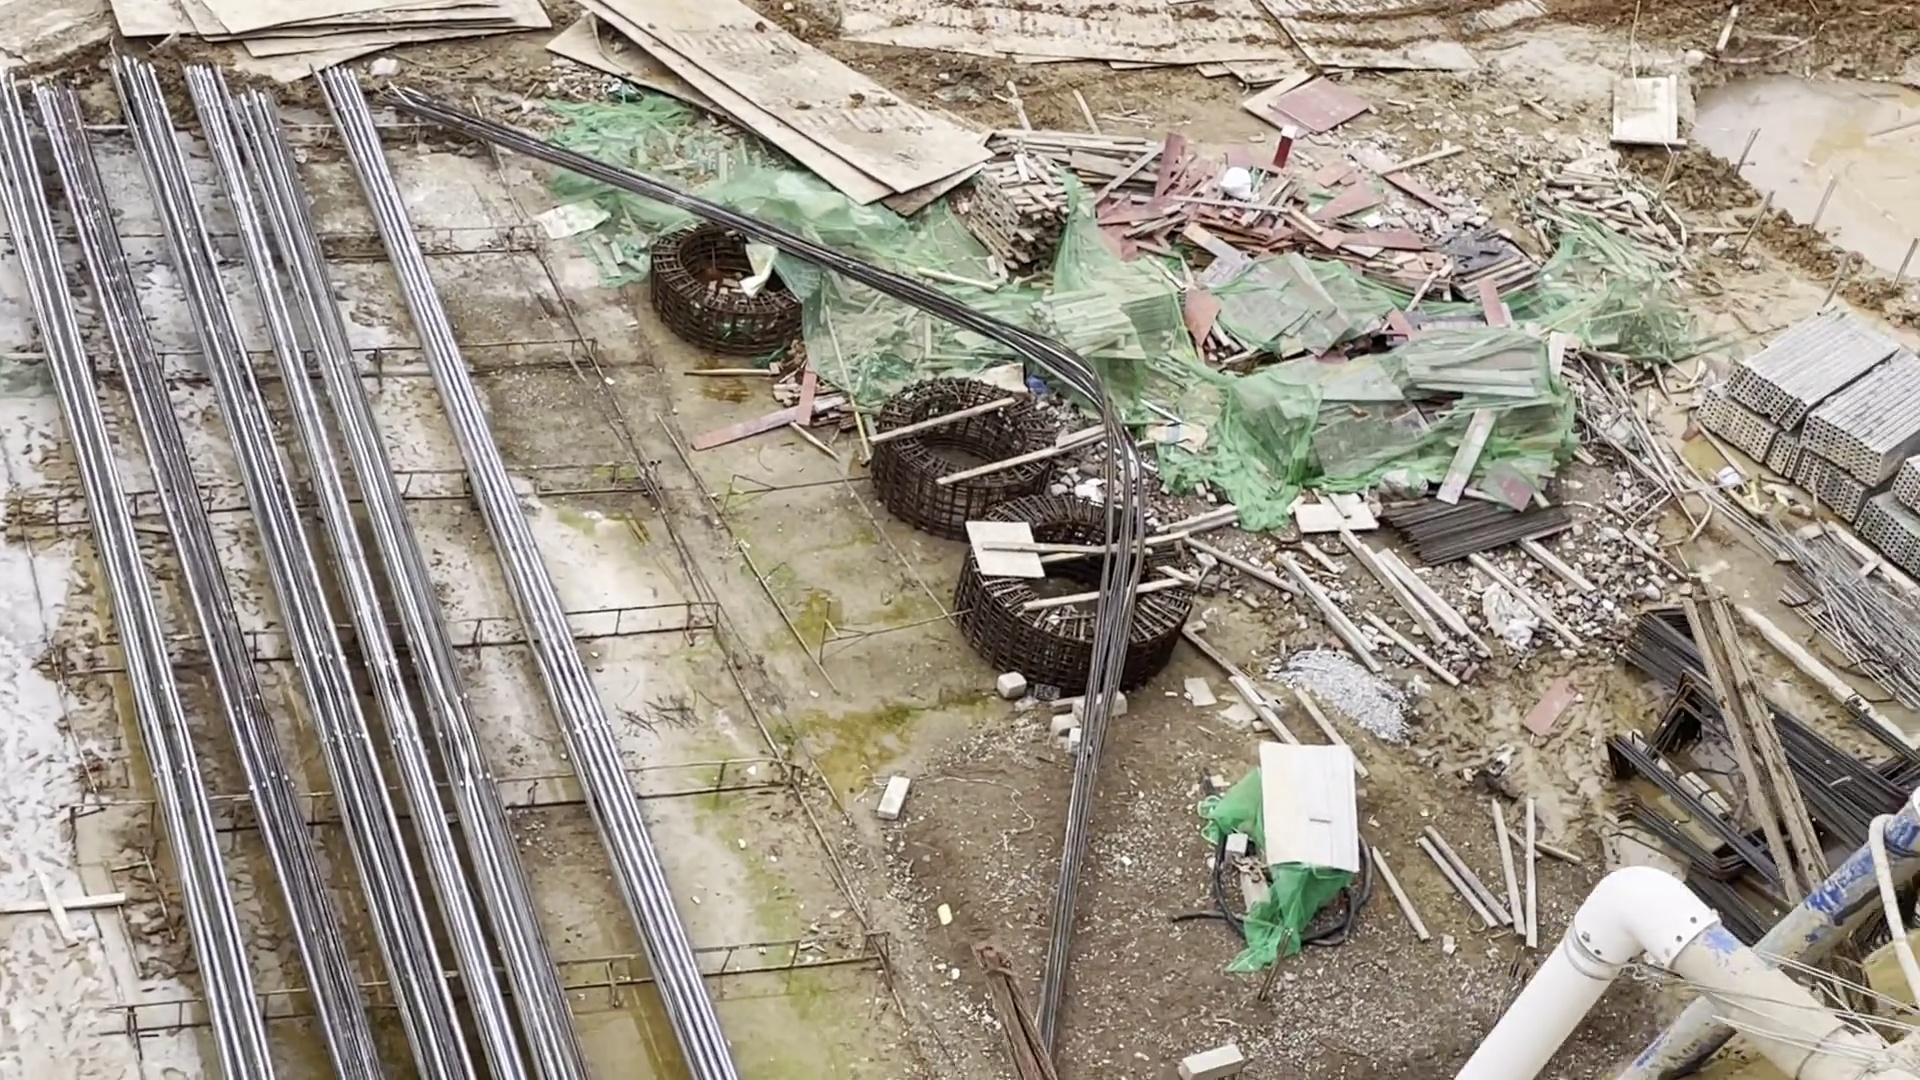board: (1159, 152, 1419, 253)
rebar: (28, 59, 514, 1080)
scaffold: (1716, 295, 1920, 549)
